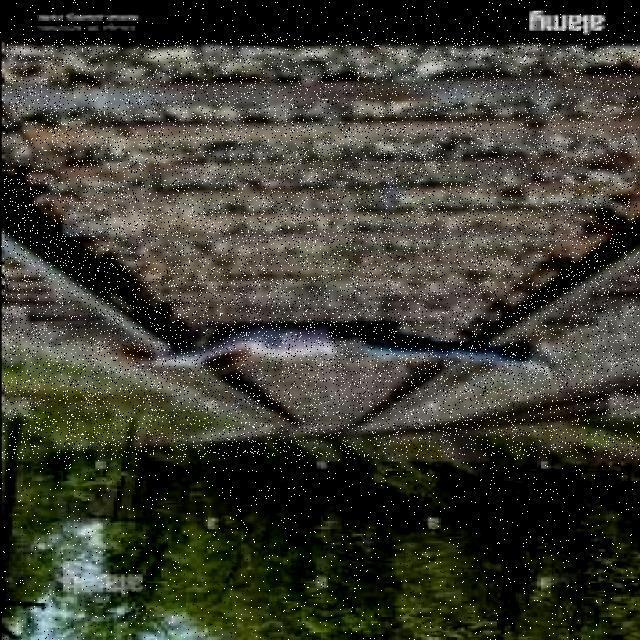danger: (98, 314, 557, 372)
rail: (3, 39, 640, 459)
